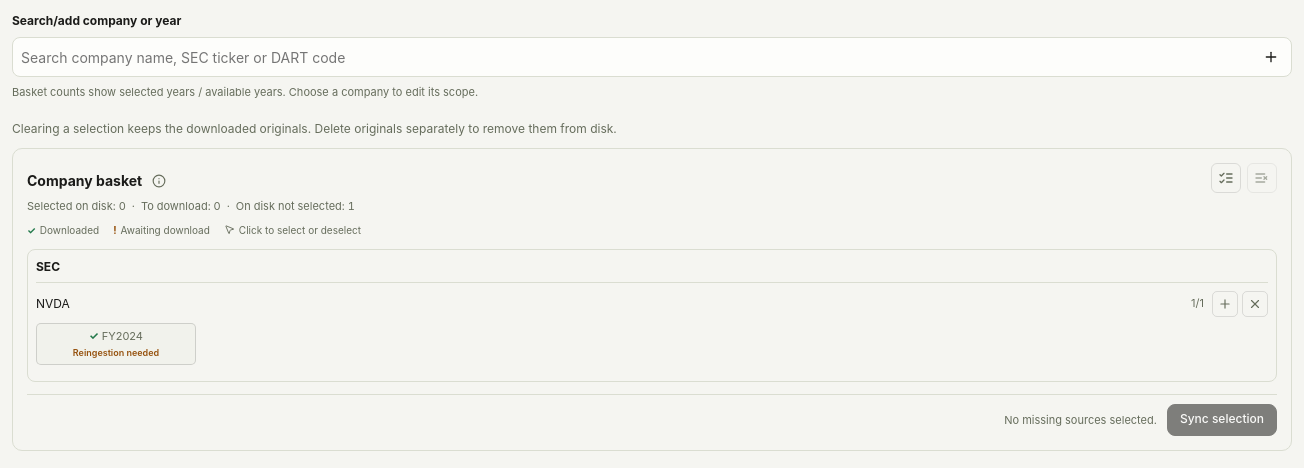
Test case: company and year source matrix › separates stale ingestion from downloaded-source availability
This screenshot has width=1304, height=468.
Expected: the text "Reingestion needed" is shown, top-left (73, 347), bottom-right (159, 358)
What coordinates should you click on to do the following:
click the button with aria-label "NVDA FY2024 · On disk"
I would click on:
 (116, 344)
Its box is top-left (36, 323), bottom-right (196, 365).
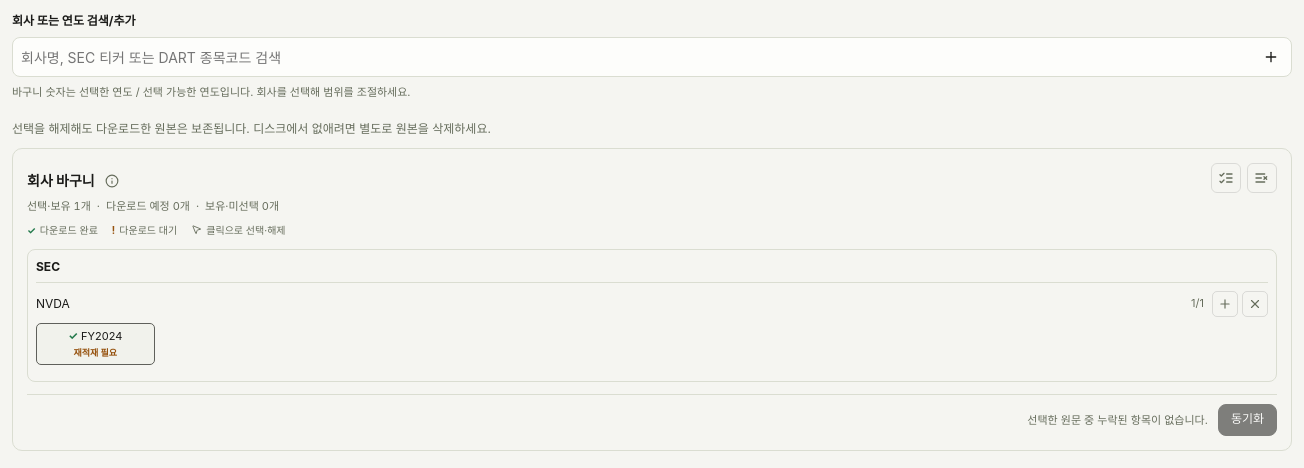
Expected: the text "재적재 필요" is shown, top-left (74, 347), bottom-right (117, 358)
